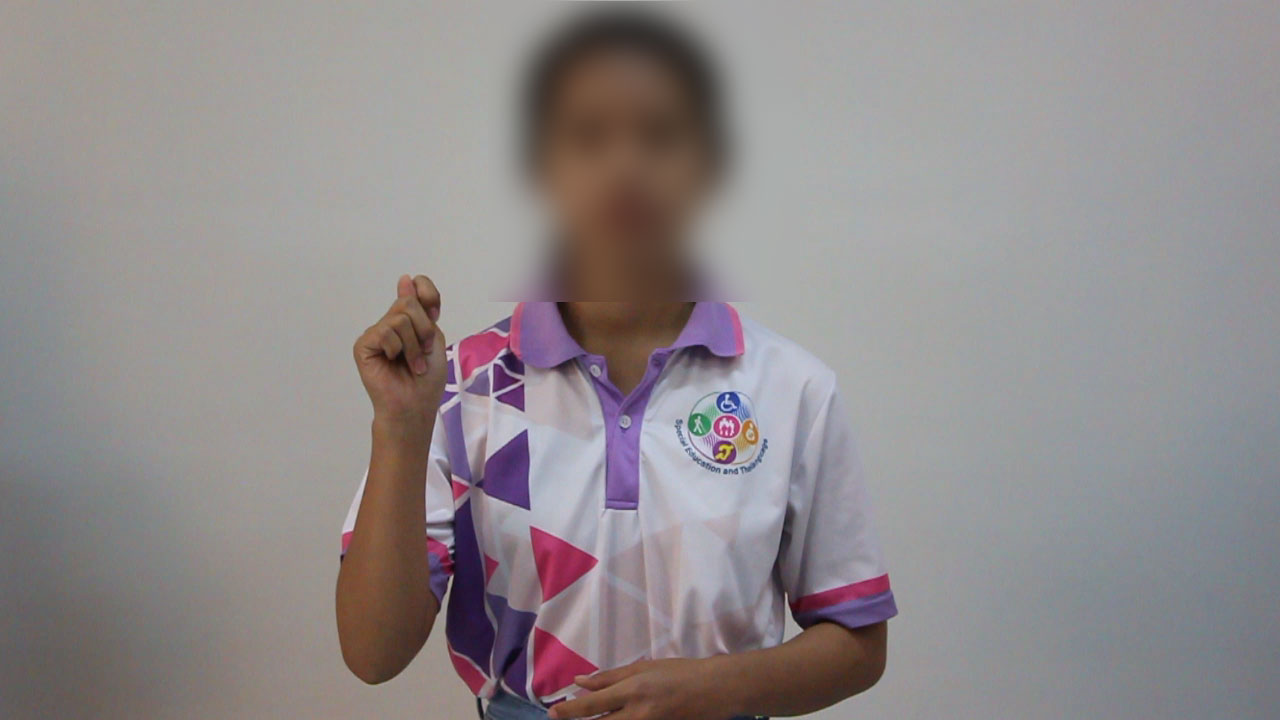tor: (334, 251, 477, 444)
